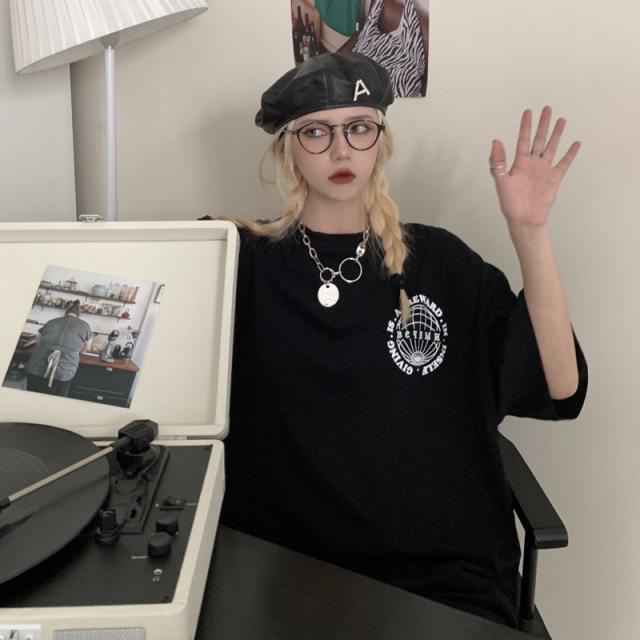Shirt: (214, 215, 588, 613)
